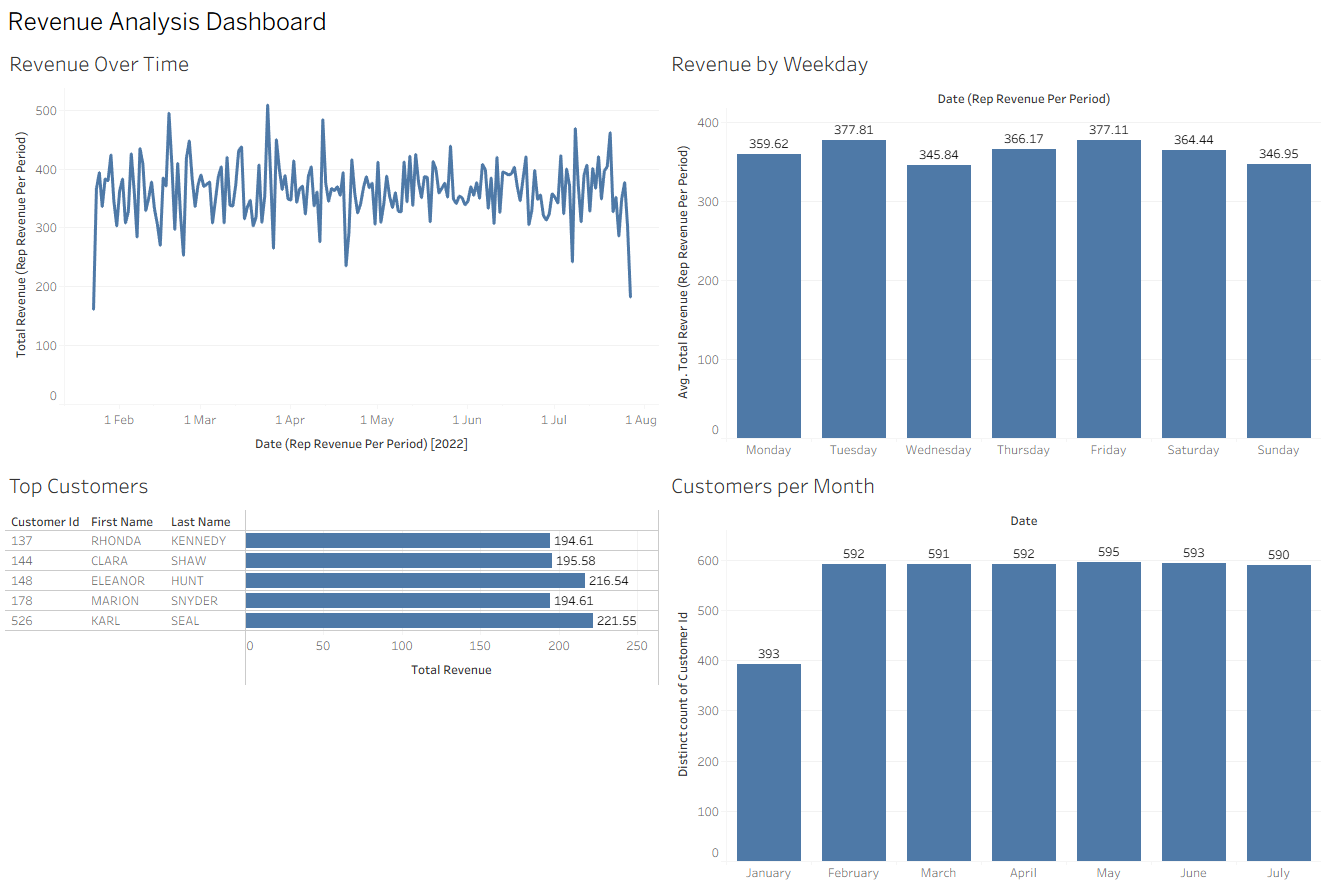

The dashboard page shown, as its layout file describes it:
{"tool":"tableau","page":{"name":"Revenue Dashboard","canvas":[1500,900],"ordinal":0},"visuals":[{"type":"title","box":[8,8,1484,39]},{"type":"worksheet","title":"Revenue Over Time","mark":"Automatic","rows":["total_revenue (rep_revenue_per_period)"],"cols":["reporting_date"],"box":[8,47,661.9,422.5]},{"type":"worksheet","title":"Revenue by Weekday","mark":"Bar","rows":["total_revenue (rep_revenue_per_period)"],"cols":["reporting_date"],"box":[669.9,47,662.1,422.5]},{"type":"filter","title":"Revenue Over Time","param":"[federated.16v10dg1bza3gy1da6gvr0sac4iu].[tdy:date:qk]","box":[1332,47,160,68]},{"type":"worksheet","title":"Top Customers","mark":"Automatic","rows":["customer_id","first_name","last_name"],"cols":["total_revenue"],"box":[8,469.5,661.9,422.5]},{"type":"worksheet","title":"Customers per Month","mark":"Bar","rows":["customer_id"],"cols":["date"],"box":[669.9,469.5,662.1,422.5]}]}

Visuals, with their boxes on the page's 1500x900 design canvas (x1, y1, x2, y2). These are canvas units, not pixel positions in the 1321x890 screenshot, which may show the page scaled, cropped or inside an application window:
title: <bbox>8, 8, 1492, 47</bbox>
"Revenue Over Time" worksheet: <bbox>8, 47, 670, 470</bbox>
"Revenue by Weekday" worksheet (Bar marks): <bbox>670, 47, 1332, 470</bbox>
"Revenue Over Time" filter: <bbox>1332, 47, 1492, 115</bbox>
"Top Customers" worksheet: <bbox>8, 470, 670, 892</bbox>
"Customers per Month" worksheet (Bar marks): <bbox>670, 470, 1332, 892</bbox>
